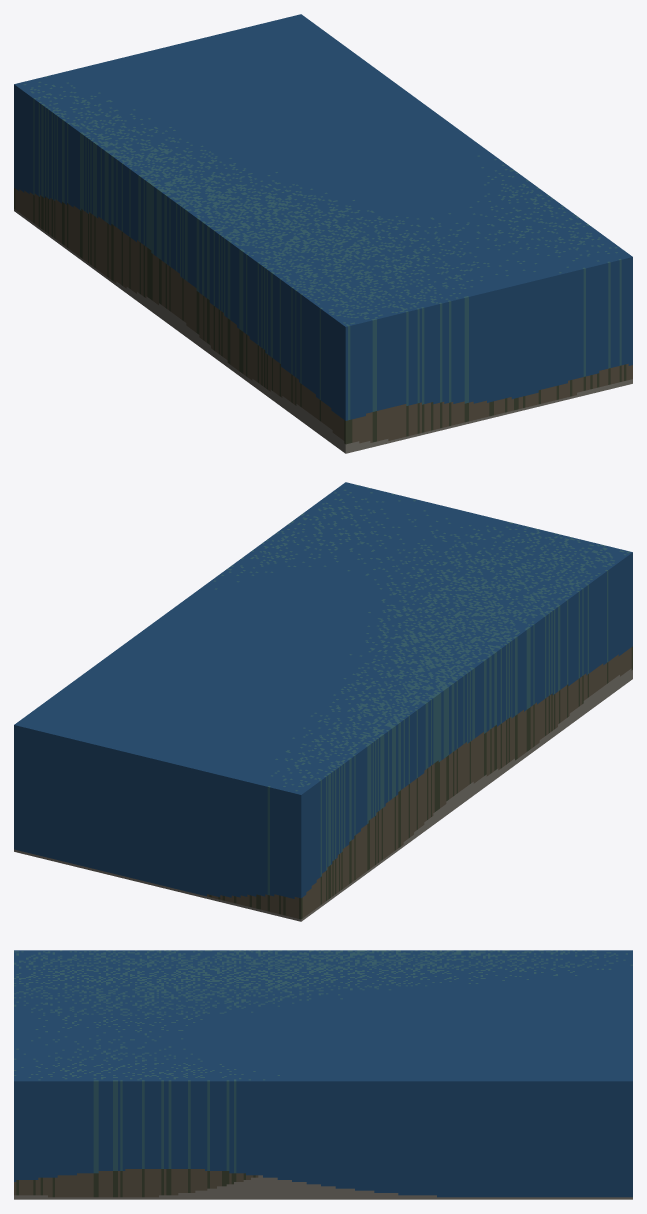
Rendered from Combined Desert(2)-14-water 3.obj.
The picture shows the model from 3 angles, top to bottom: view 1: azimuth 30°, elevation 25°; view 2: azimuth 150°, elevation 25°; view 3: azimuth 270°, elevation 25°; orthographic projection. The views are drawn at different scales.
Visible parts, largest first — view 1: water 3; view 2: water 3; view 3: water 3.
Part boxes in pixels (x1,y1,x2,y2): water 3: (14, 14, 632, 453); water 3: (14, 482, 632, 921); water 3: (14, 950, 632, 1199).
Bounding box in the file's own units: 12.8 × 5.4 × 25.6.
Materials: 1 (1 with a texture image).
